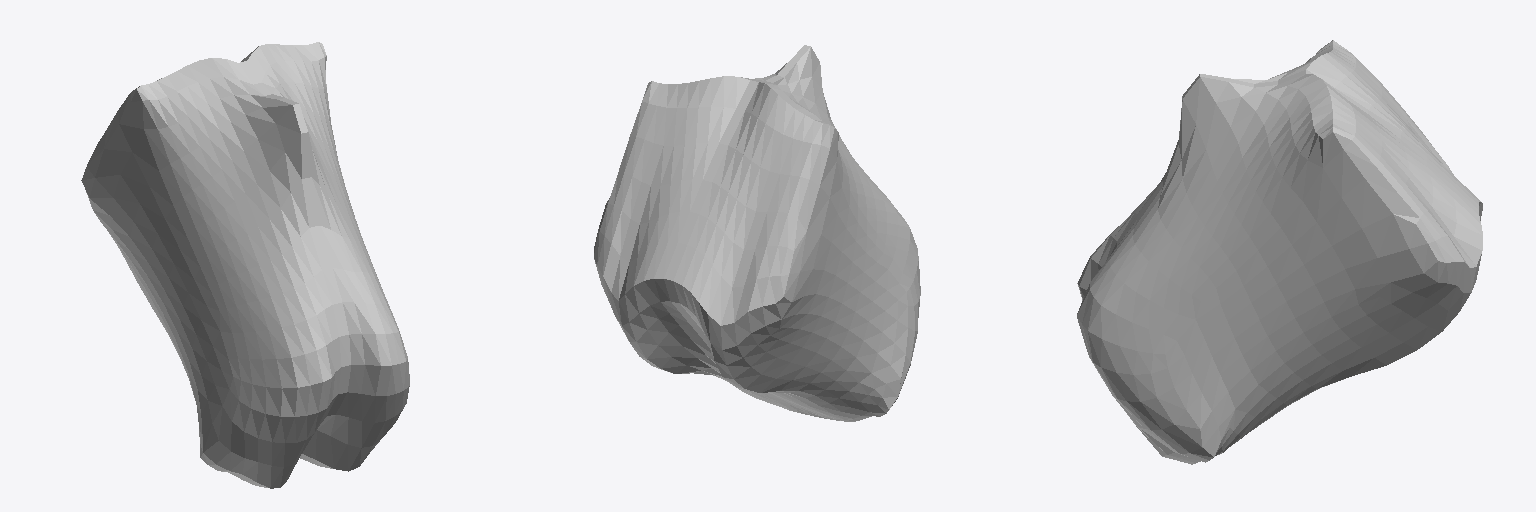
File: vertabrae23.obj
The picture shows the model from 3 angles: view 1: azimuth 30°, elevation 25°; view 2: azimuth 150°, elevation 25°; view 3: azimuth 270°, elevation 25°; orthographic projection.
Visible parts, largest first — view 1: Cube.123_Cube.124; view 2: Cube.123_Cube.124; view 3: Cube.123_Cube.124.
Boxes of the visible parts, box(x1,y1,x2,y2) form: Cube.123_Cube.124: box(81, 42, 409, 488); Cube.123_Cube.124: box(594, 45, 920, 421); Cube.123_Cube.124: box(1077, 40, 1482, 464).
Bounding box in the file's own units: 0.0533 × 0.0998 × 0.0973.